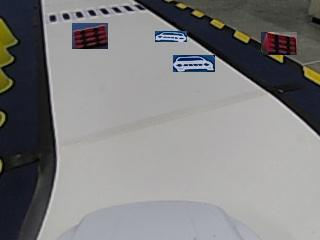crosswalk: (49, 4, 144, 22)
